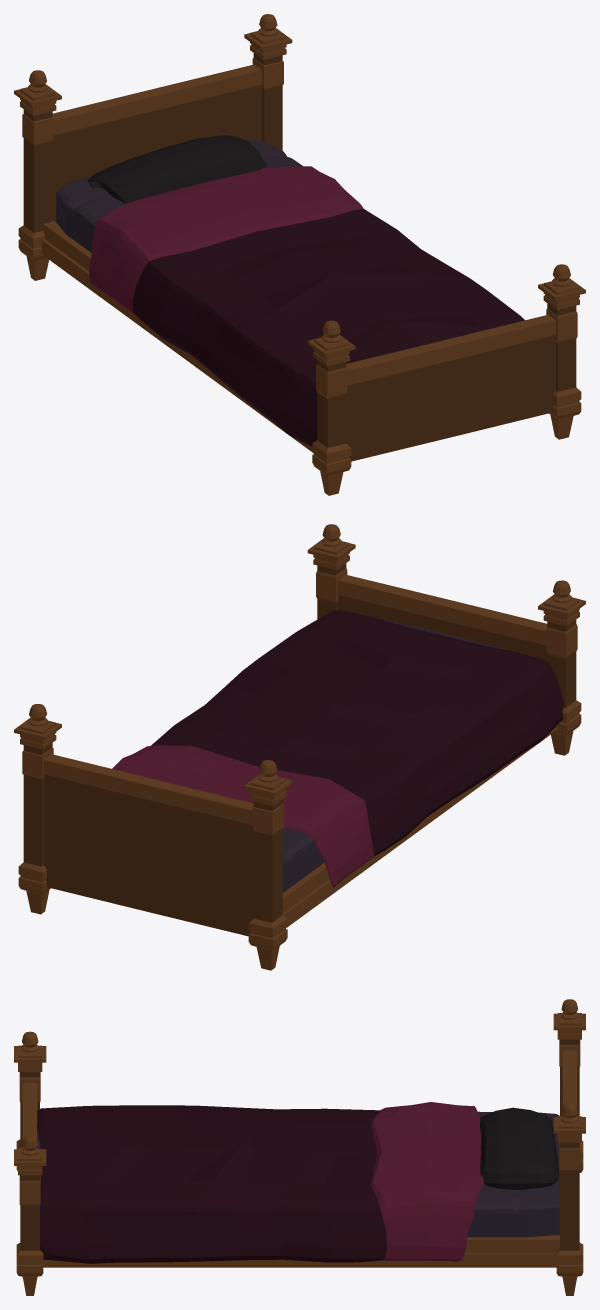
Rendered from BedTwin.glb.
3 views of the same model, one above another, from view 1: azimuth 30°, elevation 25°; view 2: azimuth 150°, elevation 25°; view 3: azimuth 270°, elevation 25° (orthographic). The views are drawn at different scales.
Visible parts, largest first — view 1: Comforter, BedFrame, Pillow, Mattress; view 2: Comforter, BedFrame, Mattress; view 3: Comforter, BedFrame, Pillow, Mattress.
Part boxes in pixels (x1=…): Comforter: x1=89, y1=166, x2=524, y2=446; BedFrame: x1=14, y1=14, x2=585, y2=495; Pillow: x1=87, y1=135, x2=267, y2=203; Mattress: x1=56, y1=140, x2=302, y2=252; Comforter: x1=112, y1=610, x2=563, y2=887; BedFrame: x1=14, y1=524, x2=585, y2=970; Mattress: x1=282, y1=618, x2=507, y2=892; Comforter: x1=37, y1=1102, x2=483, y2=1263; BedFrame: x1=14, y1=999, x2=585, y2=1295; Pillow: x1=480, y1=1107, x2=559, y2=1189; Mattress: x1=37, y1=1111, x2=559, y2=1237.
Bounding box in the file's own units: 206 × 156 × 426.
